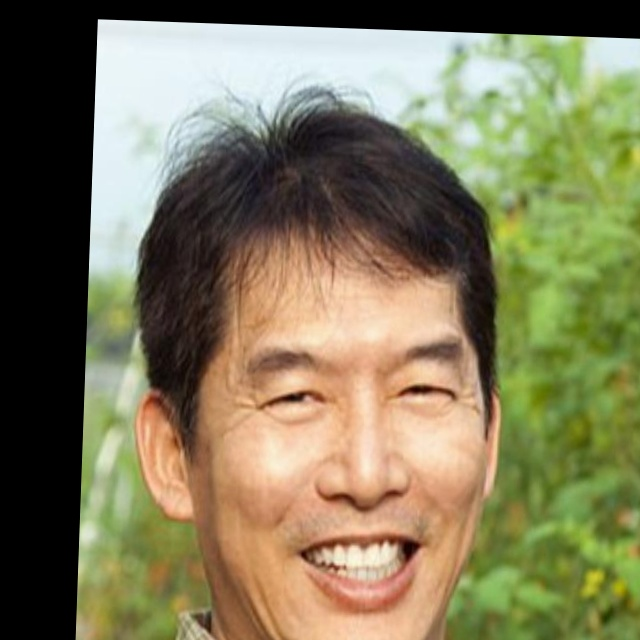Sin_Casco_Mascarrilla: (127, 93, 516, 640)
